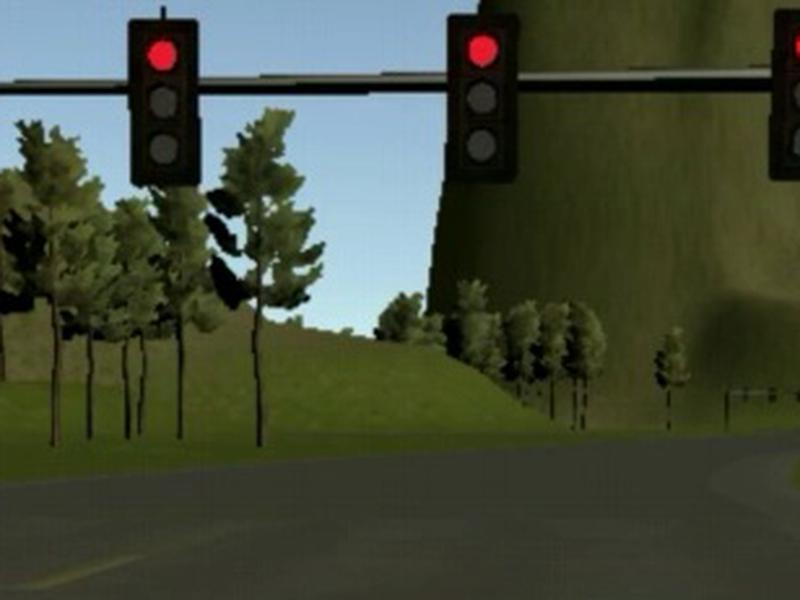Red: (126, 18, 201, 187), (446, 13, 517, 182), (770, 8, 799, 181)
